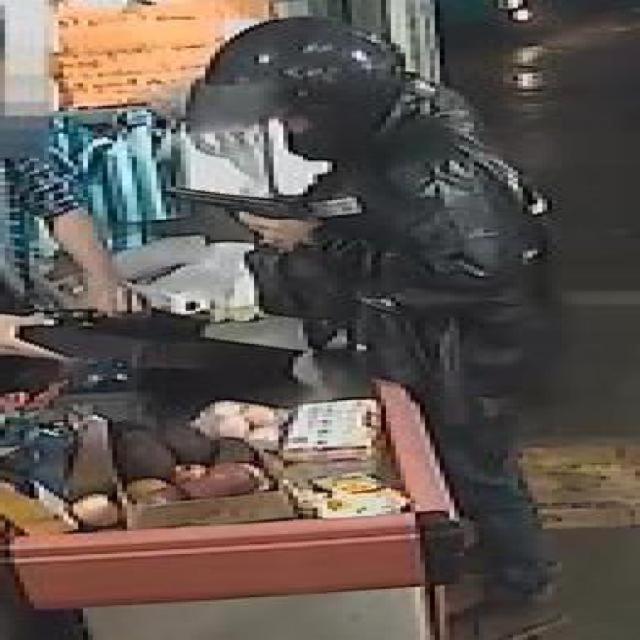pistol: (161, 182, 318, 242)
